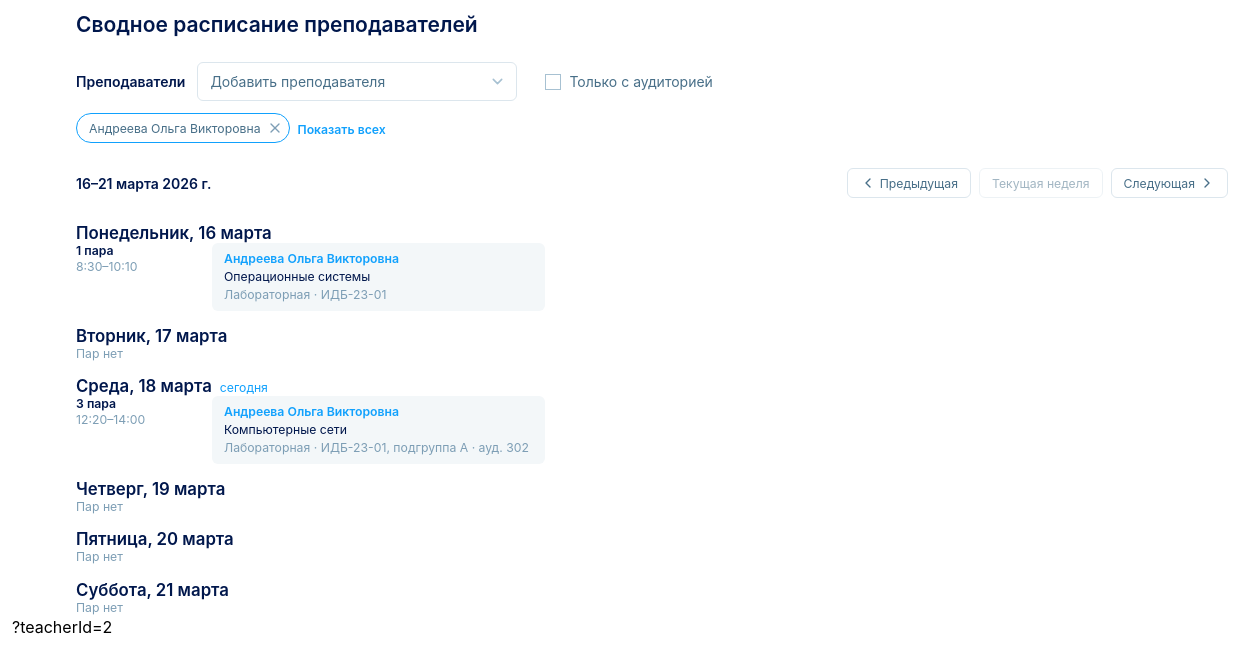
Scenario: ScheduleSummaryPage (F-57) › «только с аудиторией» прячет пары без аудитории
Click the checkbox labelled "Только с аудиторией" at (553, 82), box [545,74,561,90]
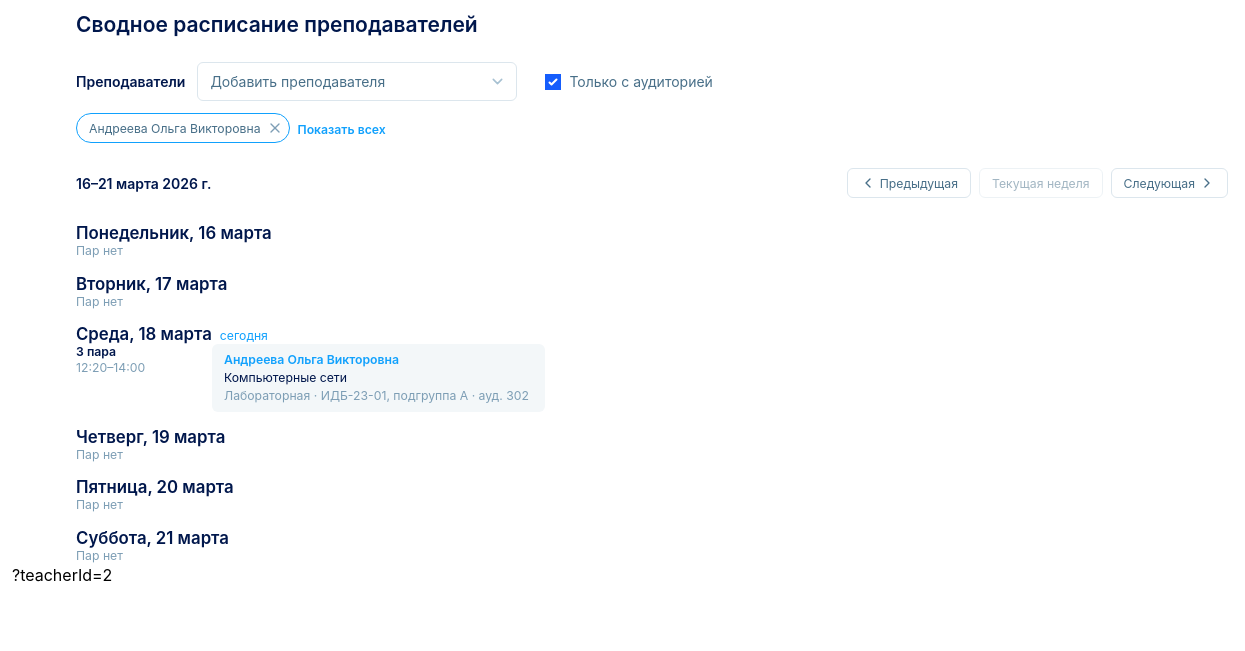
Check: the text "Пар нет" below "Понедельник, 16 марта" is shown, box [76,243,123,258]
